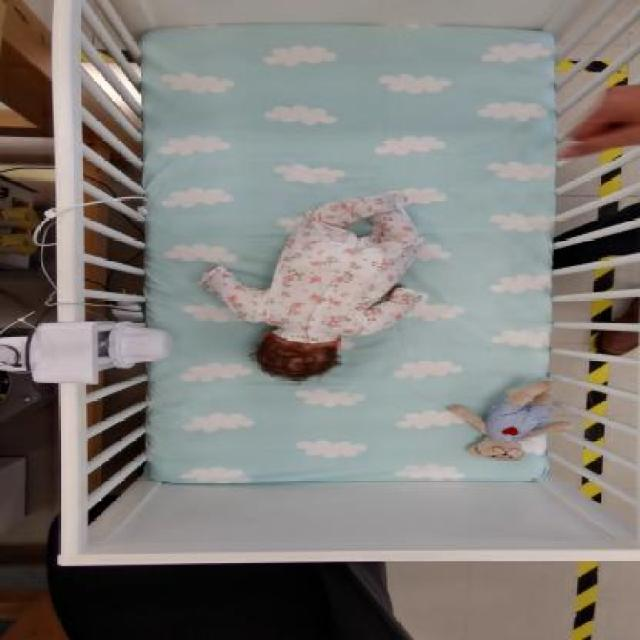baby: (203, 187, 429, 383)
